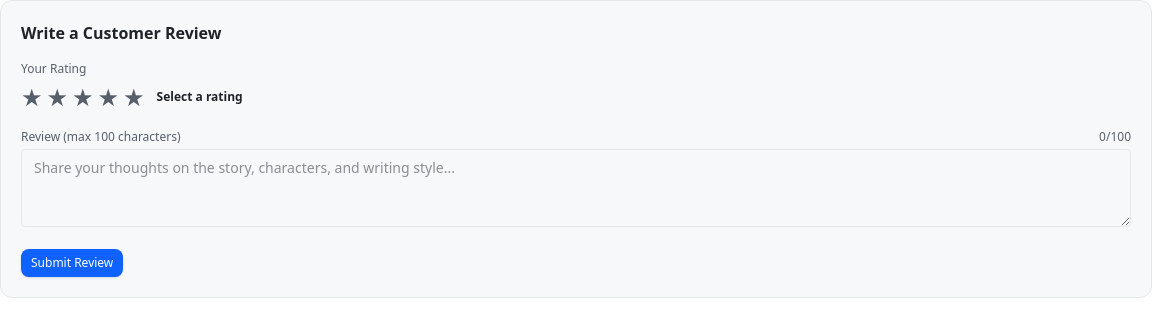
Test: ReviewFormTest › counterShowsWhileTyping: the counter follows the typed text
In the text box with placeholder "Share your thoughts": (576, 188) [21,149,1131,227], type "Lovely"
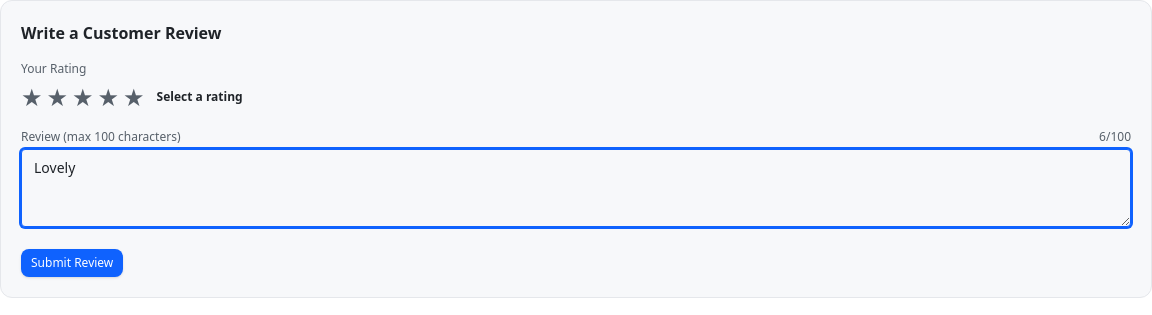
Expected: the text "6/100" is shown, [1099,129,1131,145]
